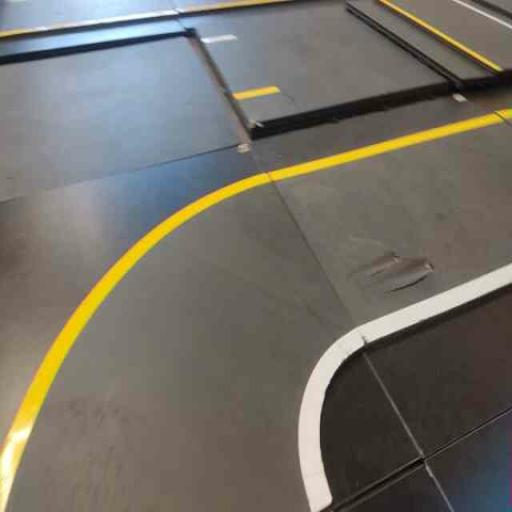right: (3, 149, 429, 511)
